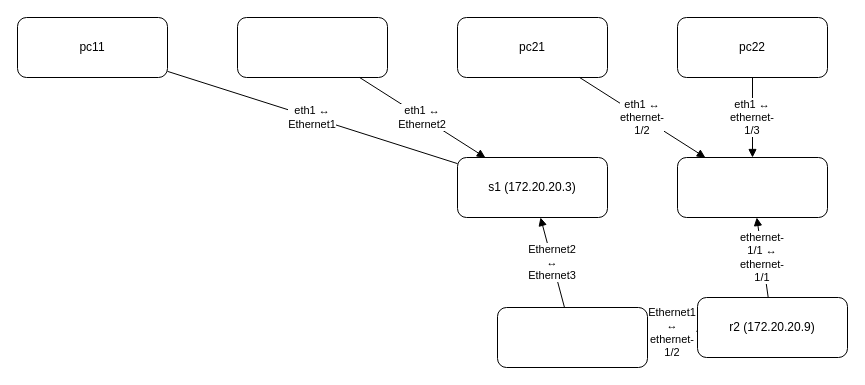
The diagram is 865 pixels wide and 385 high, and some of its shapes have lost their labels. The centre of each missing label's shape, as x and y in pixels:
"pc12" belongs at point (312, 47).
"r1 (172.20.20.6)" belongs at point (572, 337).
"s2 (172.20.20.5)" belongs at point (752, 187).
